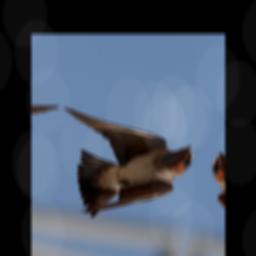Swallow: (40, 106, 199, 233)
